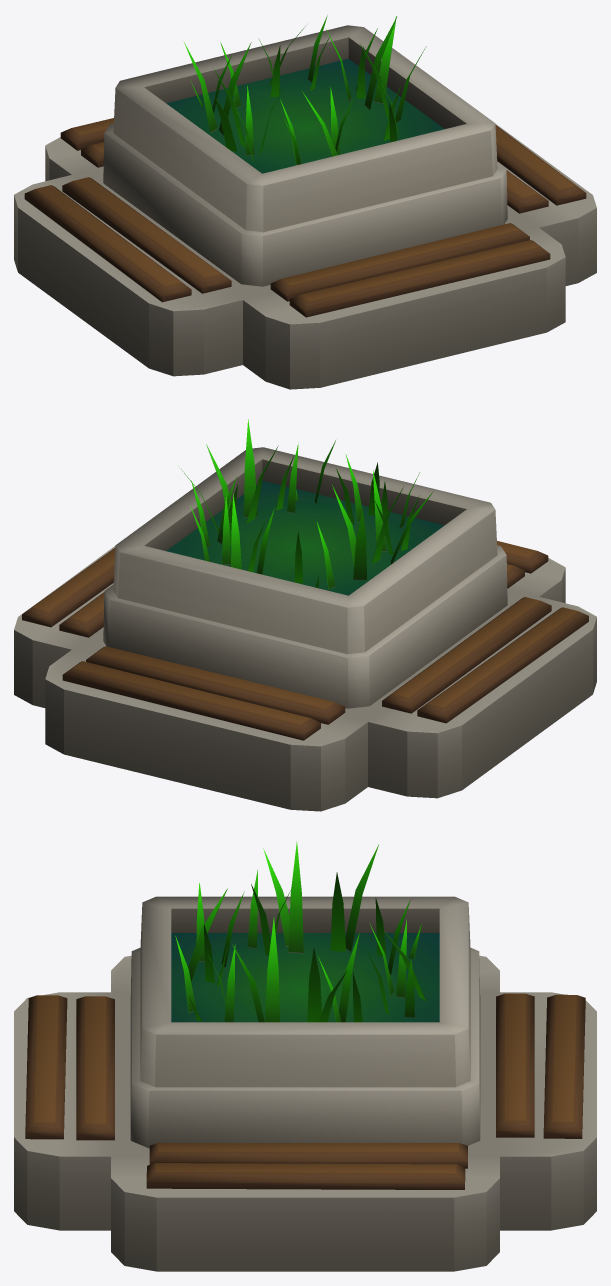
Rendered from Bench_2D.fbx.
The picture shows the model from 3 angles, top to bottom: view 1: azimuth 30°, elevation 25°; view 2: azimuth 150°, elevation 25°; view 3: azimuth 270°, elevation 25°; orthographic projection. The views are drawn at different scales.
Parts seen in each view (by area): view 1: Bench_2D; view 2: Bench_2D; view 3: Bench_2D.
Boxes of the visible parts, x1,y1,x2,y2 form: Bench_2D: (14, 15, 596, 389); Bench_2D: (14, 419, 596, 811); Bench_2D: (14, 841, 596, 1271).
Bounding box in the file's own units: 500 × 241 × 500.
